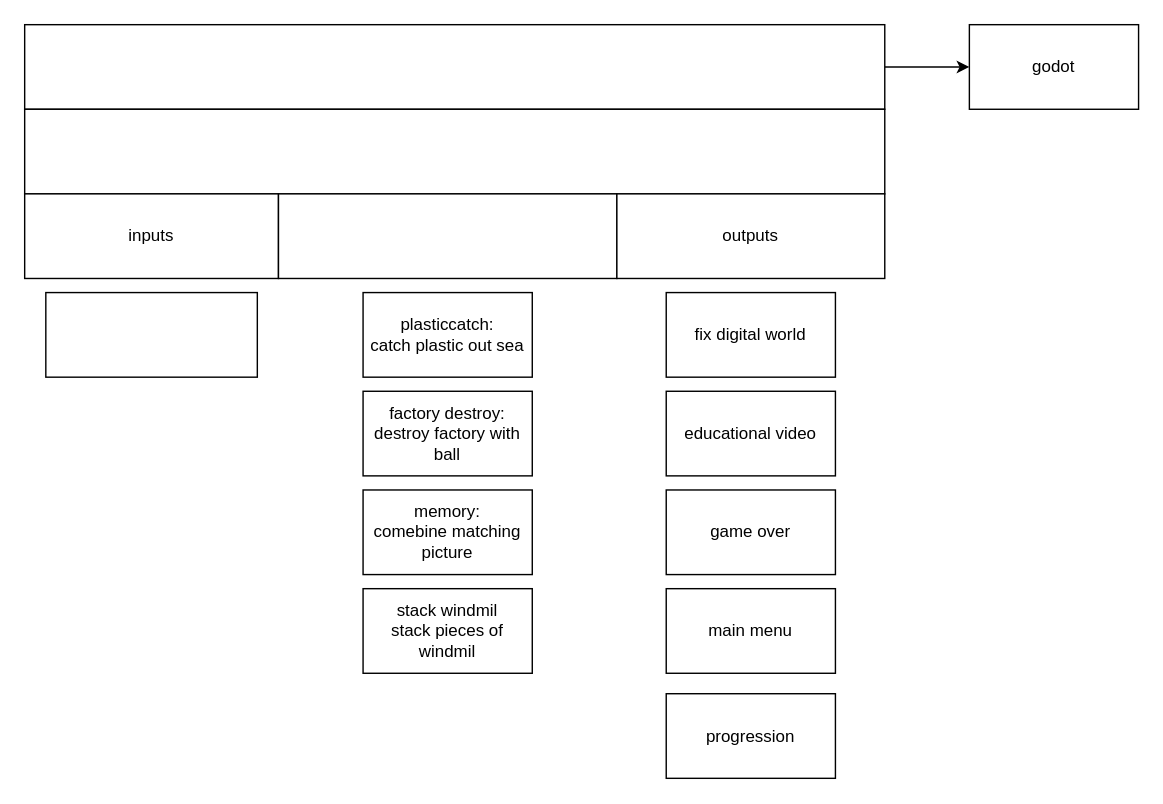
This 1163x804 diagram has some shape labels left out. Each missing label, with the centre of its shape:
"engine" goes at point 454,66.
"minngames" goes at point 447,235.
"mouse input(pc) touch input(android) climate change" goes at point 150,334.
"scenes" goes at point 454,151.
